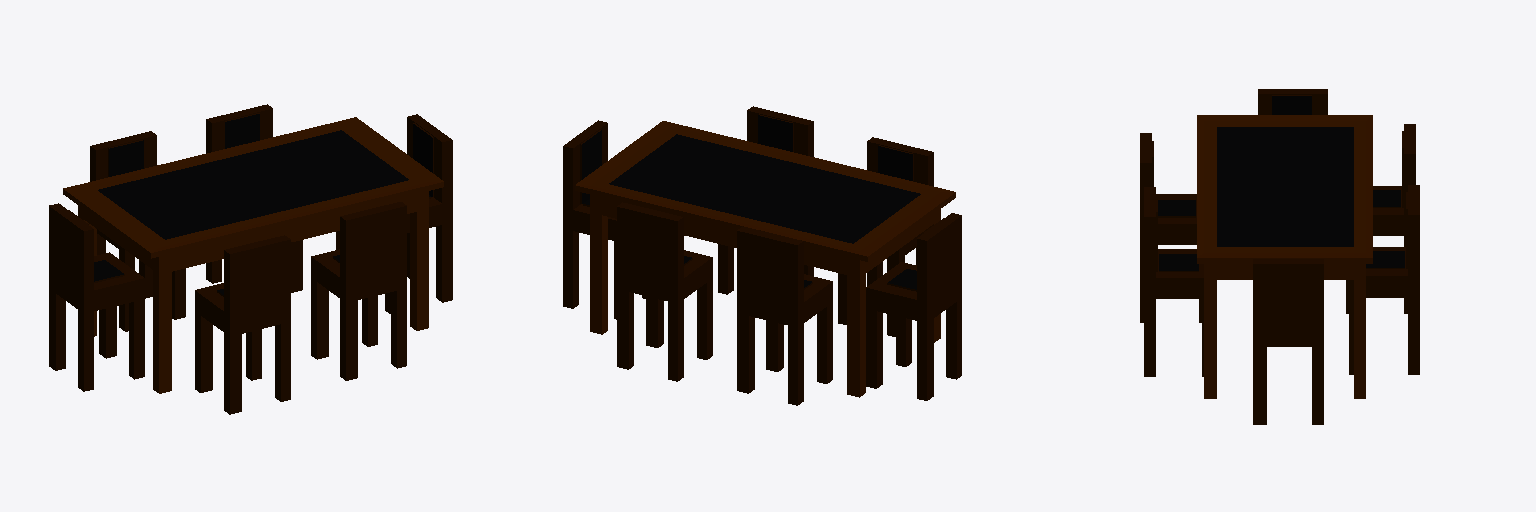
File: TableChaisse.obj
3 renders of one model, left to right at view 1: azimuth 30°, elevation 25°; view 2: azimuth 150°, elevation 25°; view 3: azimuth 270°, elevation 25°, orthographic.
Visible parts, largest first — view 1: Table_Cube, Chaisse.000_Cube.003, Chaise.000_Cube.004, Chaisse.003_Cube.006, Chaisse.001_Cube.005, Chaise.001_Cube.001, Chaisse.002_Cube.002; view 2: Table_Cube, Chaise.001_Cube.001, Chaisse.002_Cube.002, Chaisse.003_Cube.006, Chaisse.001_Cube.005, Chaisse.000_Cube.003, Chaise.000_Cube.004; view 3: Table_Cube, Chaisse.001_Cube.005, Chaisse.002_Cube.002, Chaise.000_Cube.004, Chaisse.000_Cube.003, Chaise.001_Cube.001, Chaisse.003_Cube.006.
Boxes of the visible parts, <box> form: Table_Cube: <box>63,117,443,393</box>; Chaisse.000_Cube.003: <box>195,235,290,414</box>; Chaise.000_Cube.004: <box>311,202,406,380</box>; Chaisse.003_Cube.006: <box>49,203,144,391</box>; Chaisse.001_Cube.005: <box>385,114,452,313</box>; Chaise.001_Cube.001: <box>90,131,185,331</box>; Chaisse.002_Cube.002: <box>206,104,302,292</box>; Table_Cube: <box>575,121,955,397</box>; Chaise.001_Cube.001: <box>737,226,832,405</box>; Chaisse.002_Cube.002: <box>617,202,712,381</box>; Chaisse.003_Cube.006: <box>866,213,961,400</box>; Chaisse.001_Cube.005: <box>563,120,645,319</box>; Chaisse.000_Cube.003: <box>838,137,933,336</box>; Chaise.000_Cube.004: <box>718,106,813,294</box>; Table_Cube: <box>1197,115,1372,398</box>; Chaisse.001_Cube.005: <box>1253,259,1323,424</box>; Chaisse.002_Cube.002: <box>1349,185,1419,374</box>; Chaise.000_Cube.004: <box>1144,187,1203,376</box>; Chaisse.000_Cube.003: <box>1140,133,1201,322</box>; Chaise.001_Cube.001: <box>1346,124,1415,313</box>; Chaisse.003_Cube.006: <box>1258,89,1327,114</box>.
Size of the model in its own units: 9.36 by 4.11 by 6.19.